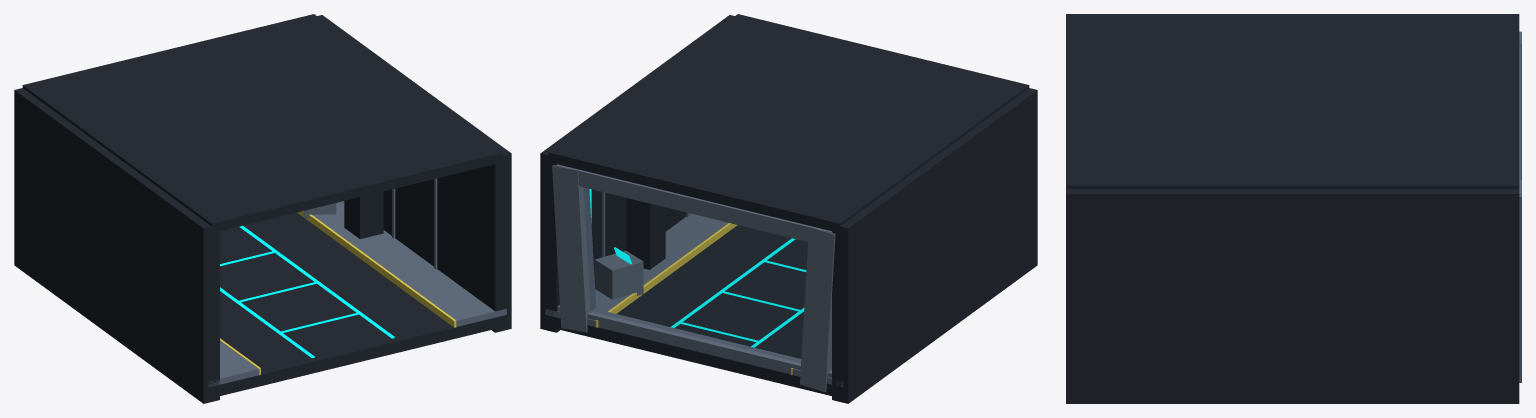
Rendered from command_deck_interior.glb.
3 views of the same model, side by side, from view 1: azimuth 30°, elevation 25°; view 2: azimuth 150°, elevation 25°; view 3: azimuth 270°, elevation 25° (orthographic). The views are drawn at different scales.
Parts seen in each view (by area): view 1: Deck_Roof_Slab, Deck_SideWall_-1, Deck_Floor_Base, Deck_SideWall_1, Deck_Walkway_1, Server_Tower_1, Deck_HazardStrip_1, Deck_Walkway_-1, Floor_LightRunner_1.1; view 2: Deck_Roof_Slab, Deck_SideWall_-1, Observation_Glass_Pane, Deck_Floor_Base, Deck_SideWall_1, Observation_Pillar_1, Observation_Pillar_-1, Observation_Header, Observation_Sill, Deck_Walkway_1, Server_Tower_1, Tactical_Console_Base_1 (+2 smaller); view 3: Deck_SideWall_1, Deck_Roof_Slab, Deck_SideWall_-1, Observation_Pillar_1.
Boxes of the visible parts, x1,y1,x2,y2 form: Deck_Roof_Slab: [22, 14, 503, 232]; Deck_SideWall_-1: [14, 88, 219, 403]; Deck_Floor_Base: [212, 212, 503, 397]; Deck_SideWall_1: [317, 15, 511, 332]; Deck_Walkway_1: [312, 201, 506, 326]; Server_Tower_1: [344, 191, 383, 238]; Deck_HazardStrip_1: [297, 211, 456, 327]; Deck_Walkway_-1: [208, 341, 259, 386]; Floor_LightRunner_1.1: [239, 225, 394, 338]; Deck_Roof_Slab: [548, 14, 1029, 232]; Deck_SideWall_-1: [832, 88, 1037, 403]; Observation_Glass_Pane: [584, 188, 807, 361]; Deck_Floor_Base: [548, 225, 839, 397]; Deck_SideWall_1: [540, 15, 734, 332]; Observation_Pillar_1: [552, 165, 596, 332]; Observation_Pillar_-1: [800, 226, 835, 392]; Observation_Header: [555, 164, 832, 241]; Observation_Sill: [557, 305, 831, 377]; Deck_Walkway_1: [545, 213, 728, 326]; Server_Tower_1: [626, 198, 665, 269]; Tactical_Console_Base_1: [594, 250, 643, 299]; Deck_SideWall_1: [1066, 189, 1519, 403]; Deck_Roof_Slab: [1066, 15, 1519, 188]; Deck_SideWall_-1: [1066, 14, 1519, 15]; Observation_Pillar_1: [1519, 180, 1521, 382].
Size of the model in its own units: 8.45 by 4.67 by 9.05.
